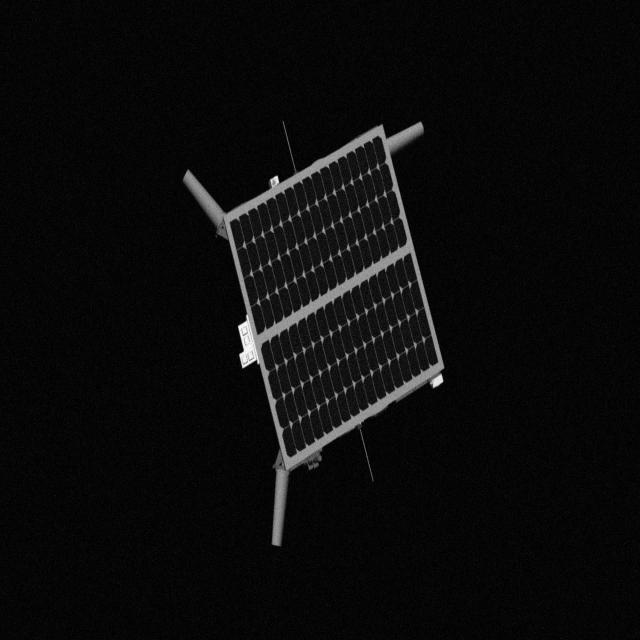medium_debris: (180, 102, 458, 554)
